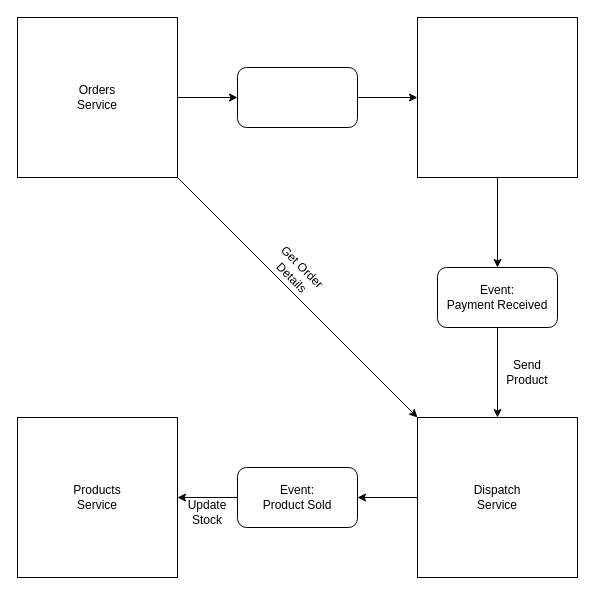
Image size: 595x595. Some labels were removed from this diagram. Here are the shapes that lost their labels. From the top down, the box of each, then its label:
(236, 66, 358, 128): Command: Take Payment
(416, 16, 578, 178): Payments Service
